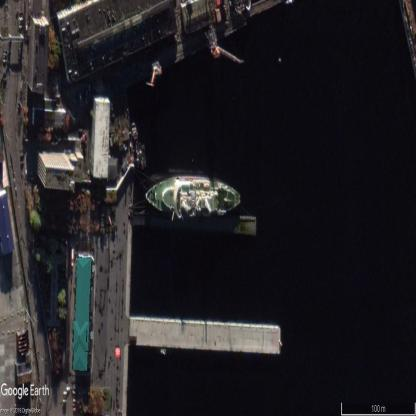ship: (146, 174, 242, 218)
